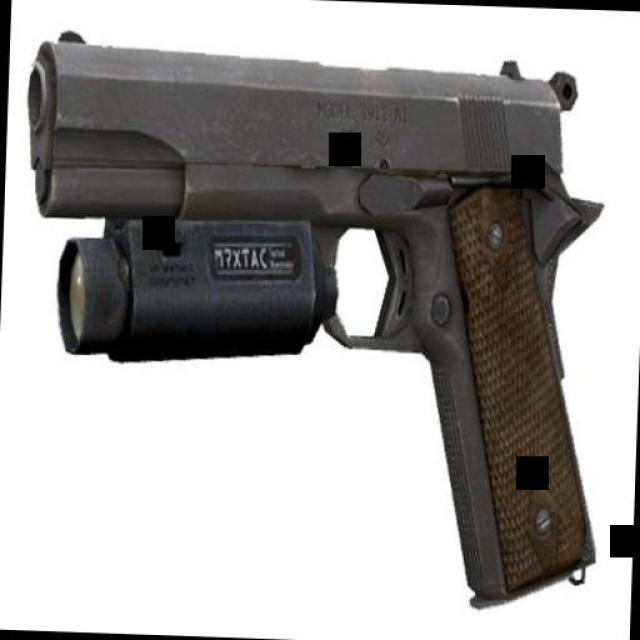gun: (10, 15, 612, 609)
